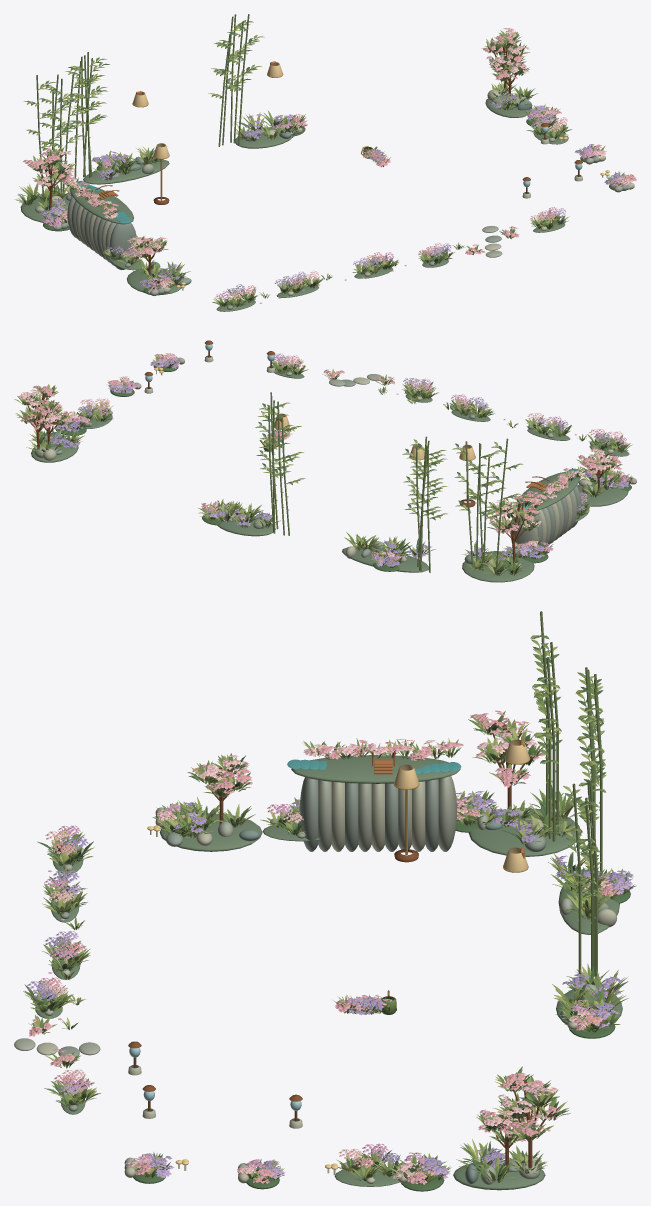
The model's file is surroundings.glb.
3 renders of one model, top to bottom at view 1: azimuth 30°, elevation 25°; view 2: azimuth 150°, elevation 25°; view 3: azimuth 270°, elevation 25°, orthographic. The views are drawn at different scales.
Parts seen in each view (by area): view 1: Surround fern.004, Surround fern.001, Surround fern.003, Surround fern, Surround fern flowers, Surround fern.002, Surround window garden shelf, Surround broad leaf shrubs.001, Surround moss island.002, Surround broad leaf shrubs.003, V11 airy flowering crown flowers, Surround window rock foundation.010 (+19 smaller); view 2: Surround moss island.001, Surround fern.004, Surround fern, Surround fern.003, Surround fern flowers, Surround fern.002, Surround fern.001, V11 airy flowering crown flowers, Surround broad leaf shrubs.001, Surround broad leaf shrubs, Surround broad leaf shrubs.003, Surround window garden shelf (+27 smaller); view 3: Surround window garden shelf, Surround moss island.001, Surround fern.003, Surround fern, Surround fern.004, Surround fern.001, Surround fern.002, V11 airy flowering crown flowers, Surround fern flowers, Surround broad leaf shrubs.001, Surround moss island, Surround broad leaf shrubs (+35 smaller).
Boxes of the visible parts, x1,y1,x2,y2 form: Surround fern.004: (16,82,538,285); Surround fern.001: (14,84,535,285); Surround fern.003: (18,82,533,283); Surround fern: (20,81,531,285); Surround fern flowers: (51,93,518,280); Surround fern.002: (18,86,533,284); Surround window garden shelf: (70,186,133,224); Surround broad leaf shrubs.001: (106,121,565,306); Surround moss island.002: (83,159,169,184); Surround broad leaf shrubs.003: (108,121,571,306); V11 airy flowering crown flowers: (23,33,523,178); Surround window rock foundation.010: (109,223,136,269); Surround moss island.001: (462,551,534,582); Surround fern.004: (32,430,620,575); Surround fern: (26,429,617,575); Surround fern.003: (29,429,622,575); Surround fern flowers: (50,434,604,560); Surround fern.002: (34,429,618,574); Surround fern.001: (32,429,620,575); V11 airy flowering crown flowers: (20,386,538,532); Surround broad leaf shrubs.001: (84,358,632,516); Surround broad leaf shrubs: (77,360,623,515); Surround broad leaf shrubs.003: (78,359,628,514); Surround window garden shelf: (515,472,580,510); Surround window garden shelf: (291,755,460,783); Surround moss island.001: (468,808,581,856); Surround fern.003: (161,789,623,1182); Surround fern: (156,792,619,1182); Surround fern.004: (157,791,628,1182); Surround fern.001: (157,793,626,1178); Surround fern.002: (161,785,628,1180); V11 airy flowering crown flowers: (470,710,560,1137); Surround fern flowers: (173,809,620,1167); Surround broad leaf shrubs.001: (23,807,385,1177); Surround moss island: (159,813,262,851); Surround broad leaf shrubs: (24,809,400,1181).
Size of the model in its own units: 17.88 by 4.9 by 12.1.
